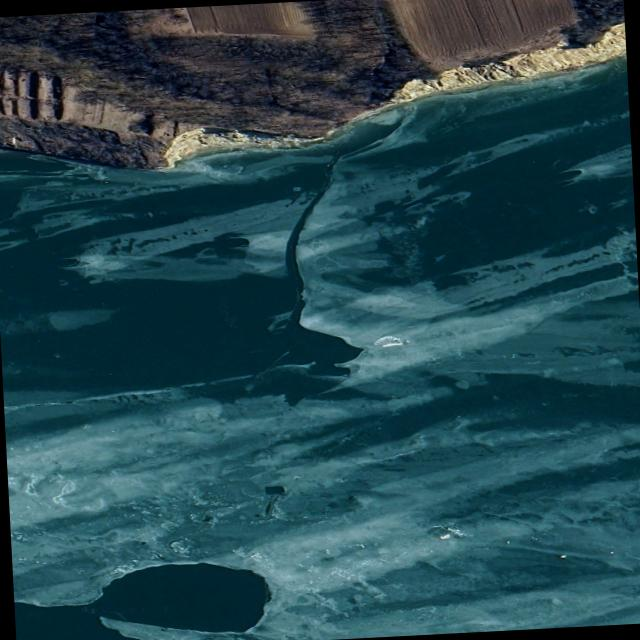bare-soil: (0, 0, 624, 171), (185, 2, 308, 36)
tree: (0, 0, 431, 132), (558, 0, 624, 44)
water: (0, 44, 640, 640)
